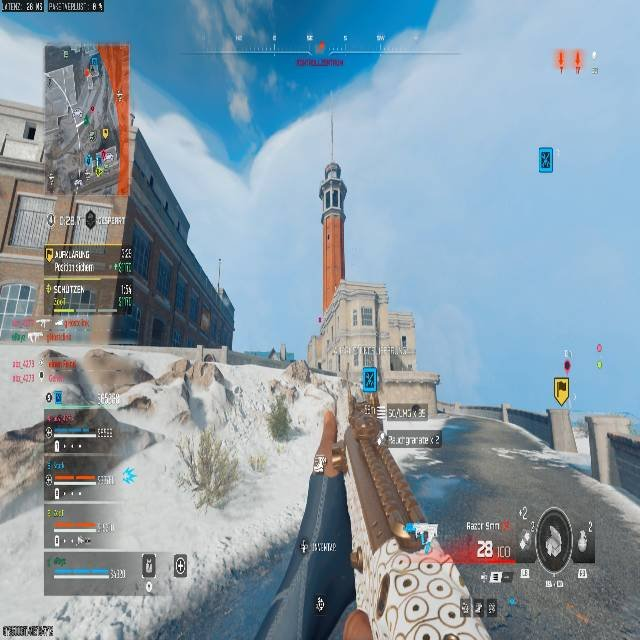player: (268, 346, 278, 361)
